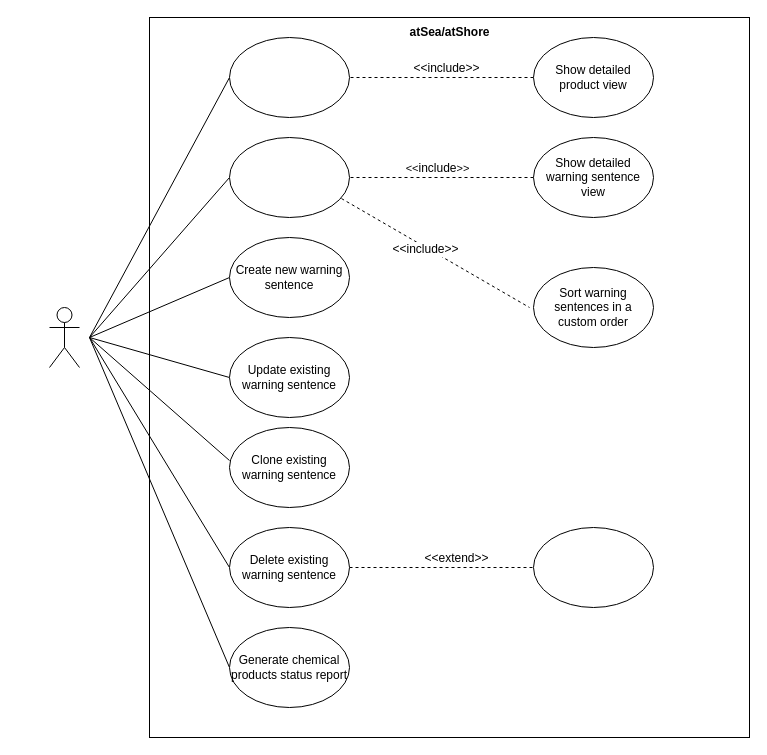
The diagram is 767 pixels wide and 755 high, and some of its shapes have lost their labels. The shapes that lost their labels are listed below. From the top down, each one's box as (x1, y1, x2, y2) in pixels, then its label:
(228, 36, 350, 118): Show list of all chemical products
(228, 136, 350, 218): Show list of all warning sentences
(48, 306, 80, 368): DHI Administrator
(532, 526, 654, 608): Refuse deletion when in use
